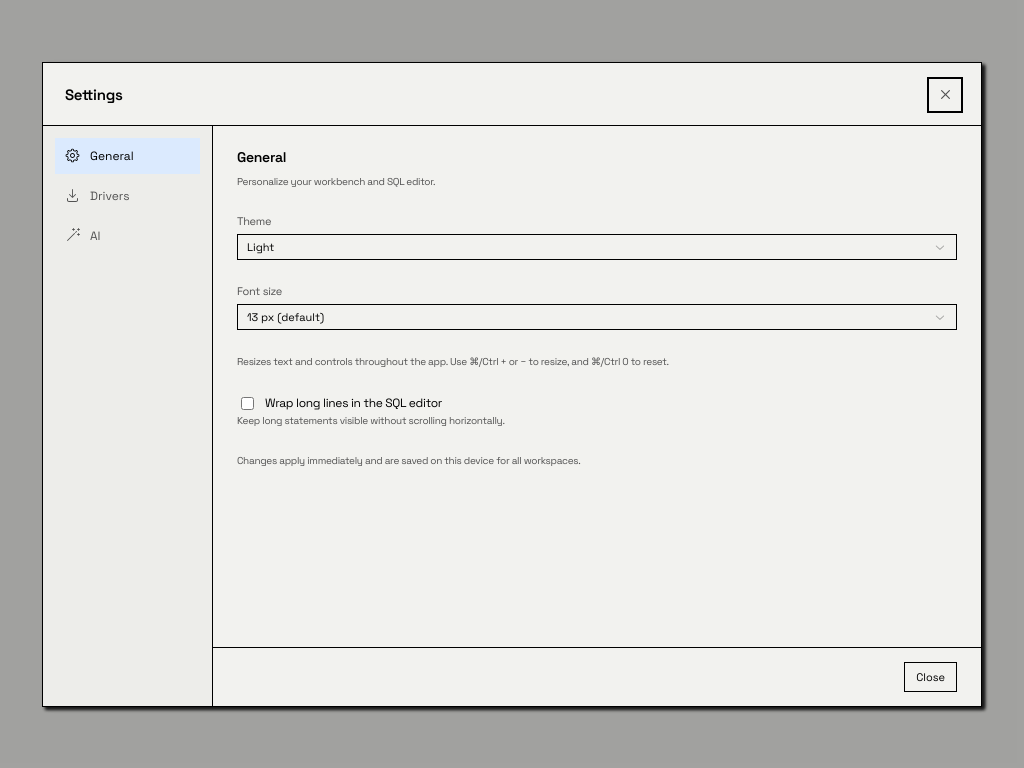
opens downloaded drivers from Settings and shows version, files, and storage
Click the button "Drivers" at (128, 196), box 55,178 -> 200,214
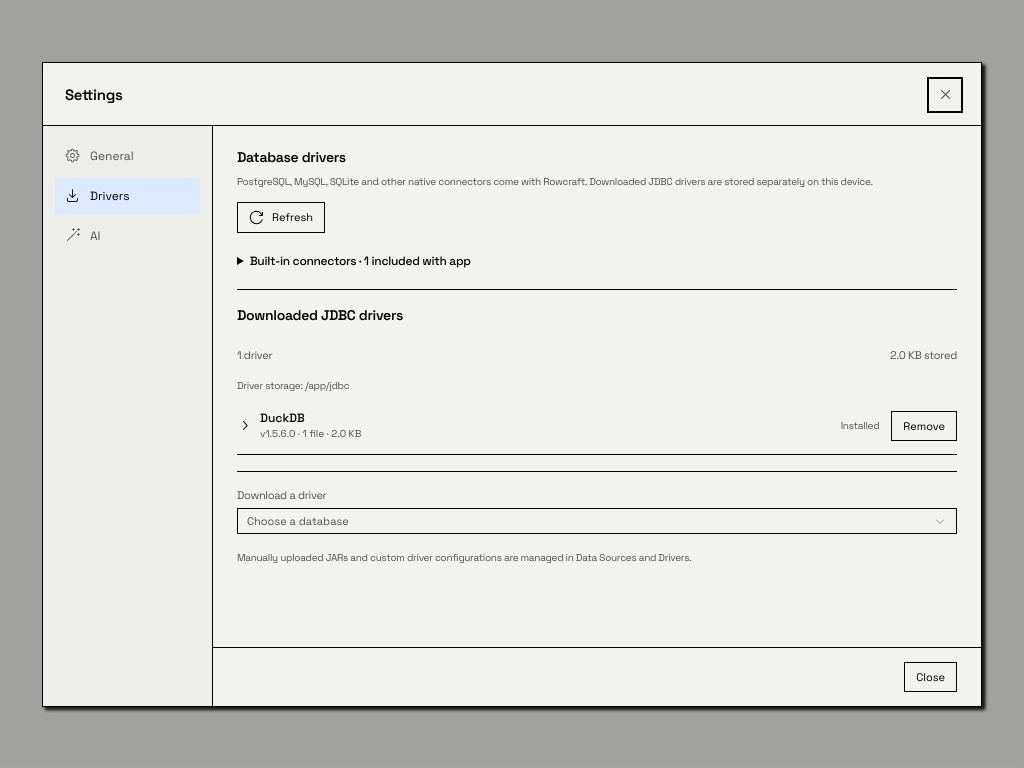
Now the text "2.0 KB stored" is shown, box 890,348 -> 957,362
Click the heading "Built-in connectors · 1 included with app" at (360, 260), box 250,252 -> 471,268
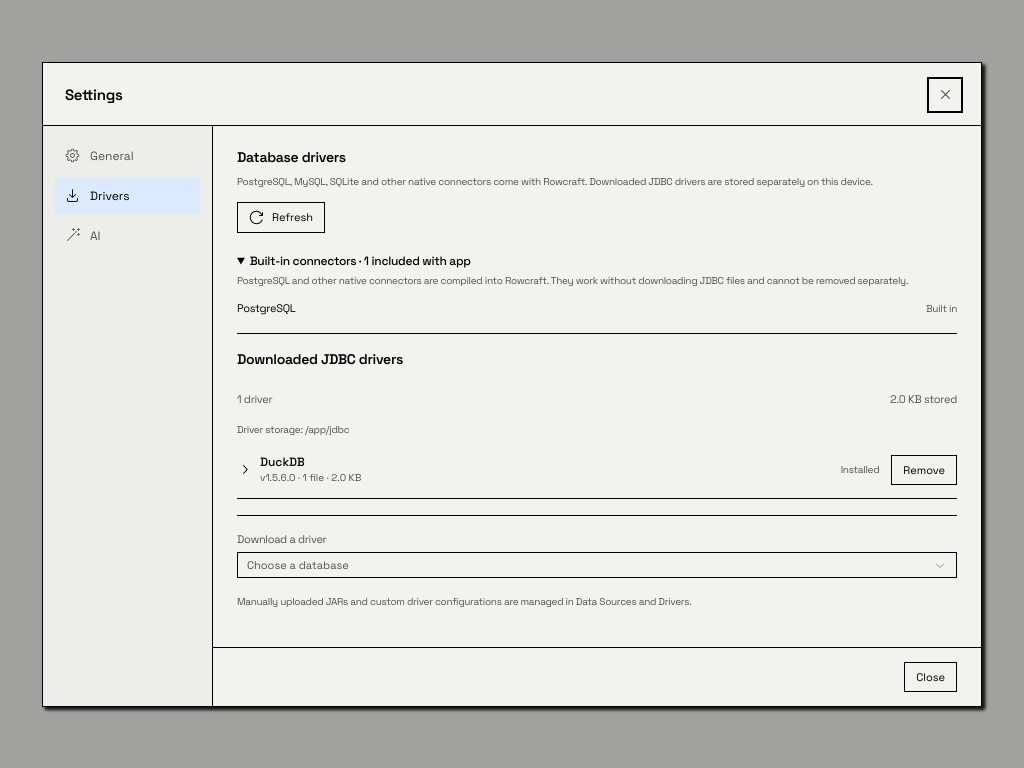
Now the text "PostgreSQL" is shown, box 237,300 -> 295,316
Click the button "DuckDB v1.5.6.0 · 1 file · 2.0 KB" at (282, 462), box 237,454 -> 829,486
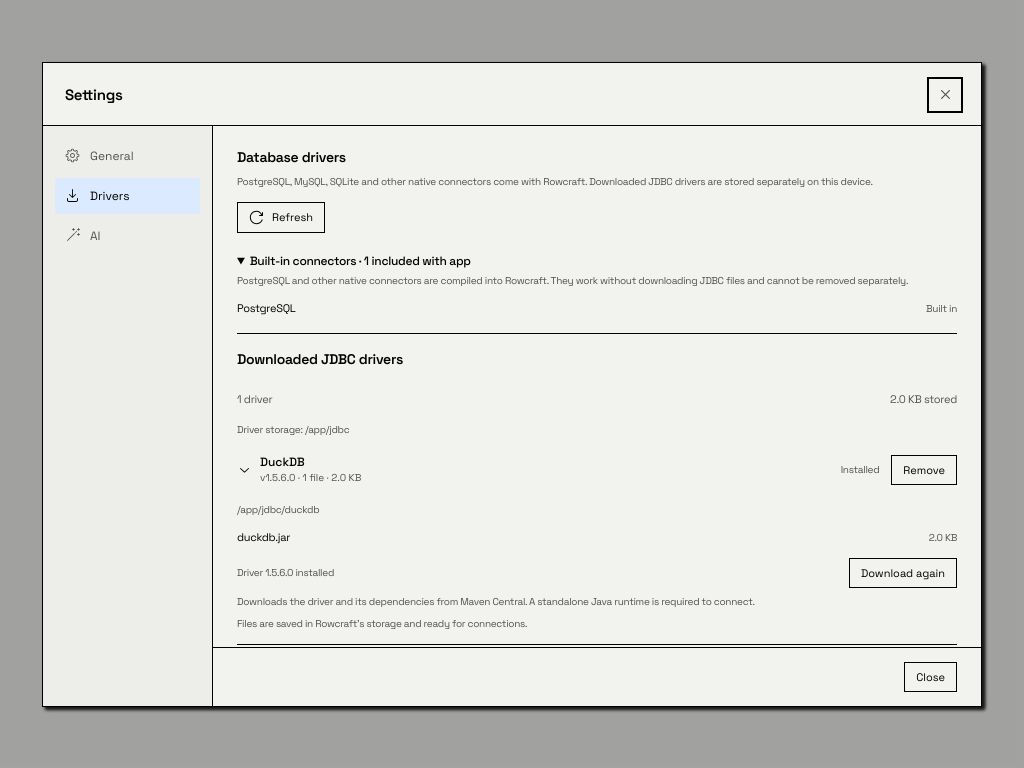
Now the text "duckdb.jar" is shown, box 237,530 -> 290,544
Now the text "/app/jdbc/duckdb" is shown, box 237,502 -> 319,516
Now the button "Download again" is shown, box 849,558 -> 957,588
